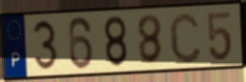3: (31, 17, 60, 73)
5: (206, 10, 234, 62)
6: (67, 15, 94, 71)
8: (136, 13, 165, 67), (102, 15, 129, 69)
C: (167, 10, 204, 65)
